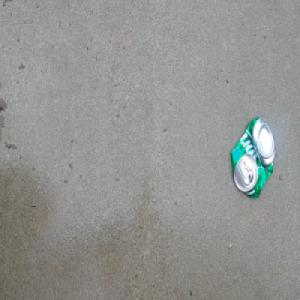SodaCan: (229, 114, 276, 201)
